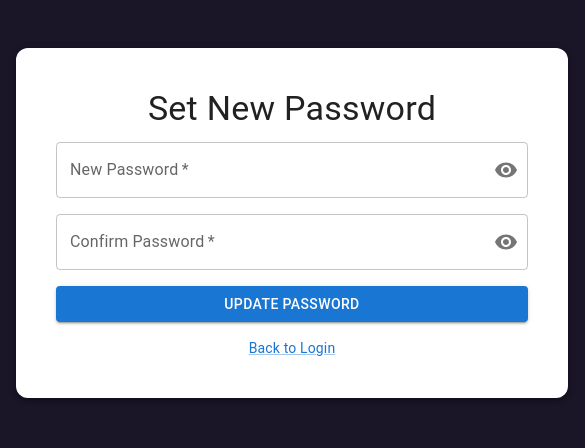
Test: ResetPasswordPage › Supabase error on submit › shows the error message returned by Supabase
In the password field labelled "New Password *": (267, 170) left=56, top=142, right=478, bottom=198, type "Newpassword123!"
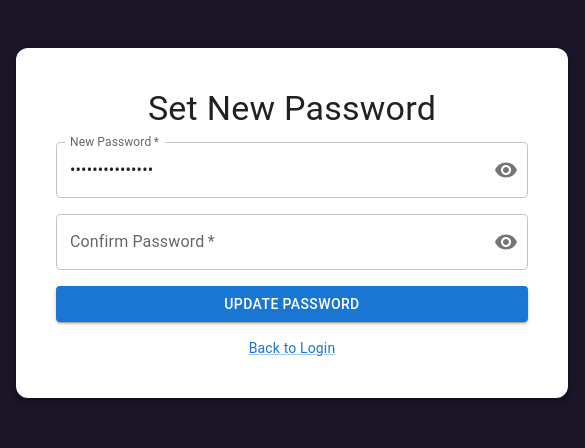
In the password field labelled "Confirm Password *": (267, 242) left=56, top=214, right=478, bottom=270, type "Newpassword123!"
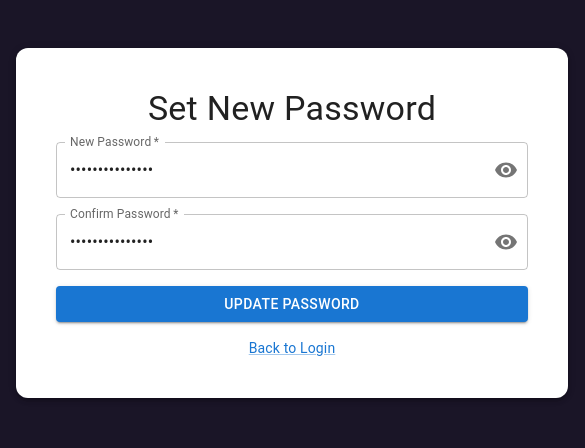
Click the button "Update Password": click(292, 304) left=56, top=286, right=528, bottom=322
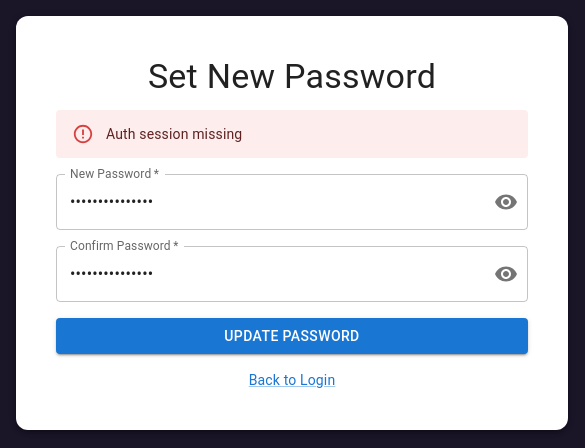
Expected: the text "Auth session missing" is shown, left=106, top=126, right=242, bottom=142
